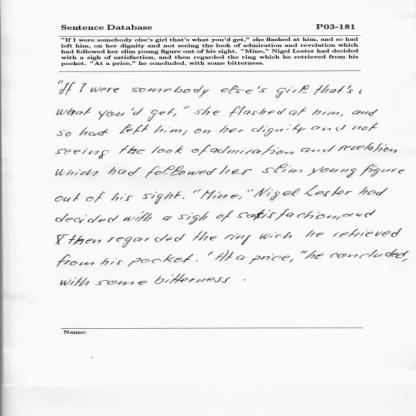Handwritten text: (63, 225, 410, 248), (52, 140, 402, 161), (52, 249, 415, 269), (49, 162, 407, 182), (49, 101, 382, 122), (56, 78, 357, 101), (47, 184, 391, 204), (51, 206, 388, 225), (41, 121, 390, 136), (61, 273, 239, 293)
